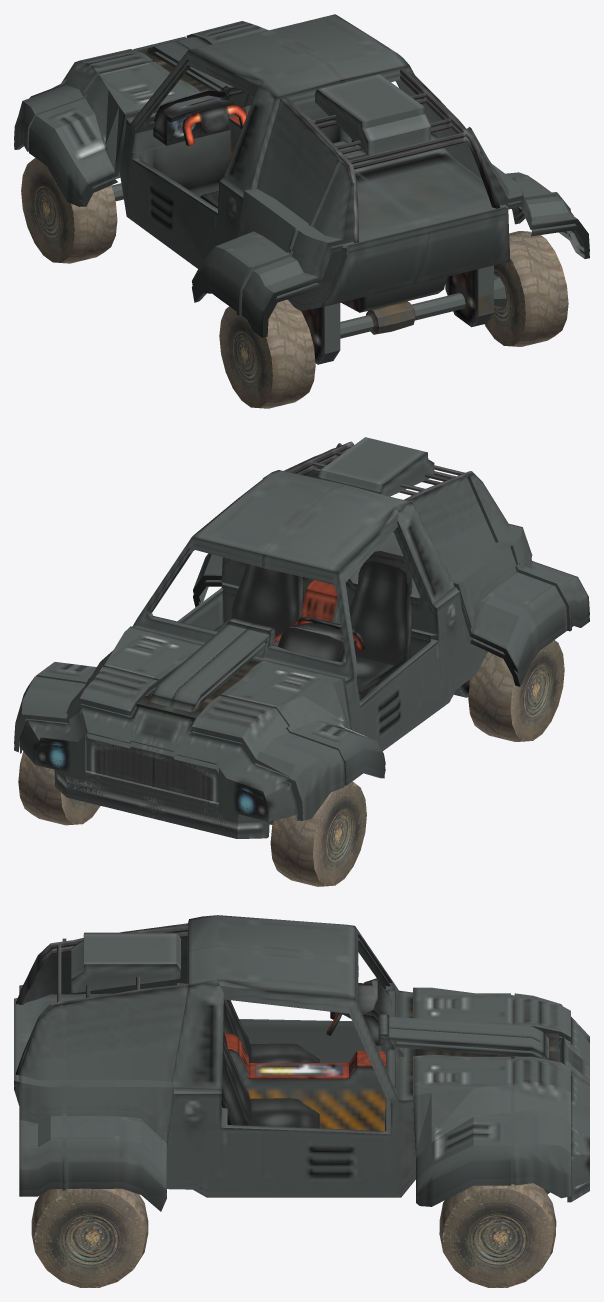
Rendered from jeep.fbx.
The picture shows the model from 3 angles, top to bottom: view 1: azimuth 30°, elevation 25°; view 2: azimuth 150°, elevation 25°; view 3: azimuth 270°, elevation 25°; orthographic projection. The views are drawn at different scales.
Parts seen in each view (by area): view 1: buggy, convexHull_hidden, convexHull_hidden_canopy, rl_tire, rr_tire, rearAxle, fl_tire, convexHull_hidden_fende2, convexHull_hidden_fender1; view 2: convexHull_hidden, buggy, convexHull_hidden_canopy, fl_tire, rl_tire, fr_tire, convexHull_hidden_fende2, convexHull_hidden_fender1; view 3: buggy, convexHull_hidden, convexHull_hidden_canopy, fr_tire, rr_tire, convexHull_hidden_fender1, convexHull_hidden_fende2.
Part boxes in pixels (<box>): buggy: <box>14,52,589,331</box>; convexHull_hidden: <box>29,21,531,305</box>; convexHull_hidden_canopy: <box>134,14,509,242</box>; rl_tire: <box>219,299,315,408</box>; rr_tire: <box>484,231,568,346</box>; rearAxle: <box>301,265,506,364</box>; fl_tire: <box>21,158,117,263</box>; convexHull_hidden_fende2: <box>192,206,589,337</box>; convexHull_hidden_fender1: <box>14,132,117,206</box>; convexHull_hidden: <box>35,498,532,830</box>; buggy: <box>14,437,589,838</box>; convexHull_hidden_canopy: <box>138,441,509,670</box>; fl_tire: <box>270,781,366,886</box>; rl_tire: <box>468,640,564,741</box>; fr_tire: <box>18,751,100,825</box>; convexHull_hidden_fende2: <box>193,580,589,686</box>; convexHull_hidden_fender1: <box>14,718,385,820</box>; buggy: <box>14,931,589,1202</box>; convexHull_hidden: <box>14,983,589,1191</box>; convexHull_hidden_canopy: <box>15,915,395,1094</box>; fr_tire: <box>439,1183,556,1287</box>; rr_tire: <box>31,1188,148,1287</box>; convexHull_hidden_fender1: <box>416,1044,571,1206</box>; convexHull_hidden_fende2: <box>19,1182,166,1211</box>.
Size of the model in its own units: 101 by 146 by 75.24.
2 materials, 2 textured.
